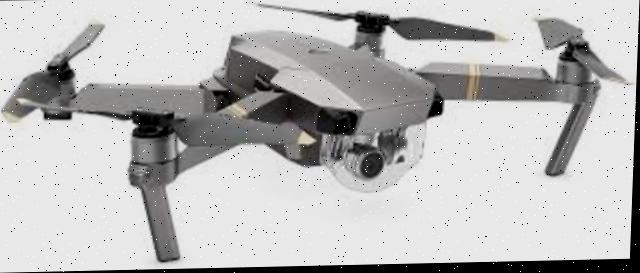drone: (0, 0, 640, 256)
